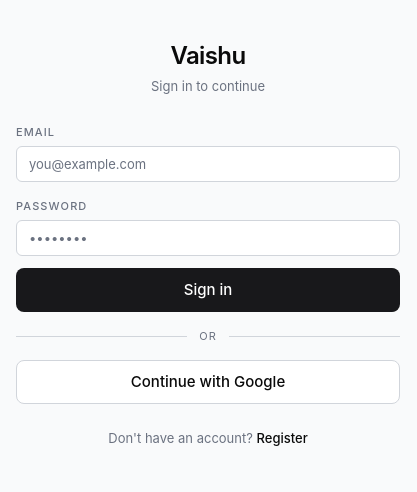
Test case: Login › shows a friendly error message on auth/wrong-password
Type "user@example.com" into the field labelled "Email" at coordinates (208, 164), box [16, 146, 400, 182]
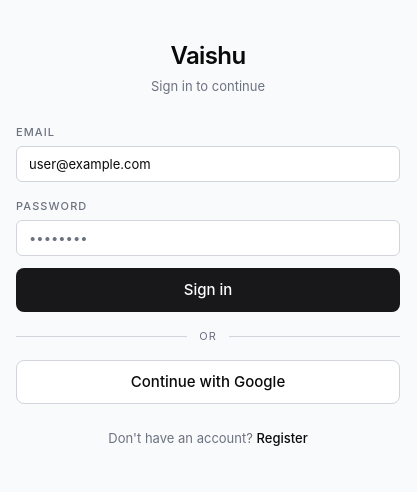
Type "wrongpass" into the password field labelled "Password" at coordinates (208, 238), box [16, 220, 400, 256]
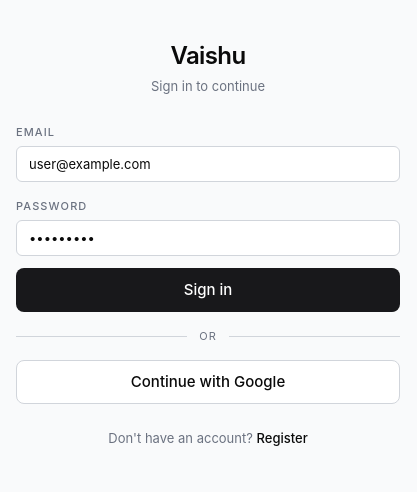
Click the button "Sign in" at coordinates (208, 290), box [16, 268, 400, 312]
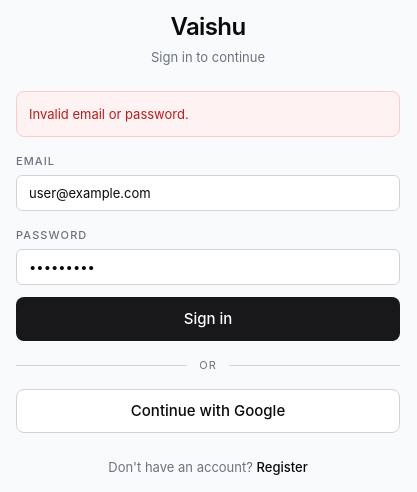
Expected: the text "Invalid email or password." is shown, [29, 106, 189, 122]
